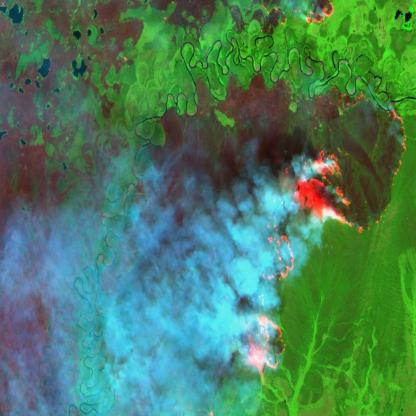fire: (234, 86, 408, 379), (256, 0, 346, 31)
